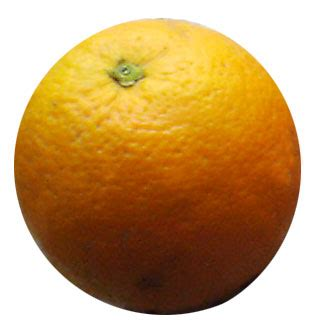orange: (12, 13, 306, 318)
